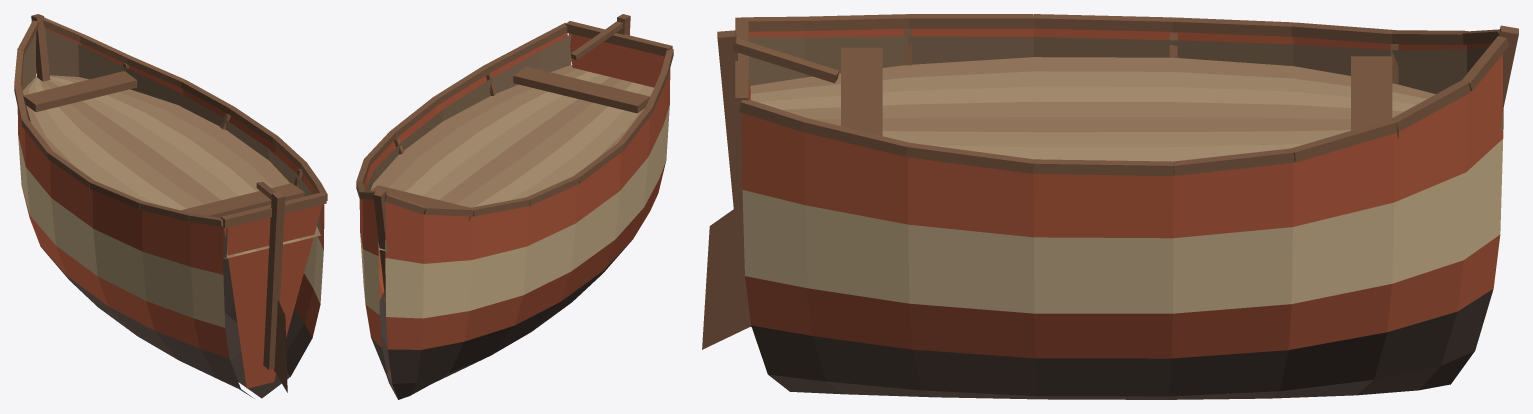
Rendered from fishing_boat_rust.glb.
3 renders of one model, left to right at view 1: azimuth 30°, elevation 25°; view 2: azimuth 150°, elevation 25°; view 3: azimuth 270°, elevation 25°, orthographic. The views are drawn at different scales.
Visible parts, largest first — view 1: Painted strake, Oiled oak, Faded cream band, Tarred keel, Deck board 1, Inside oak, Deck board 3, Deck board 2, Deck board 0; view 2: Painted strake, Faded cream band, Oiled oak, Tarred keel, Deck board 1, Deck board 2, Deck board 3, Deck board 0, Inside oak; view 3: Painted strake, Faded cream band, Oiled oak, Tarred keel, Inside oak, Deck board 0, Deck board 1, Deck board 3, Deck board 2.
Part boxes in pixels (<box>): Painted strake: <box>17,28,324,388</box>; Oiled oak: <box>14,14,327,392</box>; Faded cream band: <box>18,136,323,327</box>; Tarred keel: <box>43,250,312,398</box>; Deck board 1: <box>22,75,321,258</box>; Inside oak: <box>22,29,320,259</box>; Deck board 3: <box>35,77,299,253</box>; Deck board 2: <box>39,76,310,250</box>; Deck board 0: <box>28,77,289,255</box>; Painted strake: <box>359,32,670,349</box>; Faded cream band: <box>360,106,669,318</box>; Oiled oak: <box>356,14,673,304</box>; Tarred keel: <box>371,241,631,399</box>; Deck board 1: <box>370,65,644,249</box>; Deck board 2: <box>378,69,632,250</box>; Deck board 3: <box>378,71,643,250</box>; Deck board 0: <box>381,74,653,250</box>; Inside oak: <box>365,34,651,252</box>; Painted strake: <box>742,28,1503,358</box>; Faded cream band: <box>742,139,1503,313</box>; Oiled oak: <box>702,14,1518,349</box>; Tarred keel: <box>751,289,1493,399</box>; Inside oak: <box>742,36,1503,163</box>; Deck board 0: <box>750,71,1426,147</box>; Deck board 1: <box>750,57,1435,132</box>; Deck board 3: <box>758,86,1416,161</box>; Deck board 2: <box>783,101,1403,119</box>.
Bounding box in the file's own units: 2.31 × 2.64 × 5.32.
